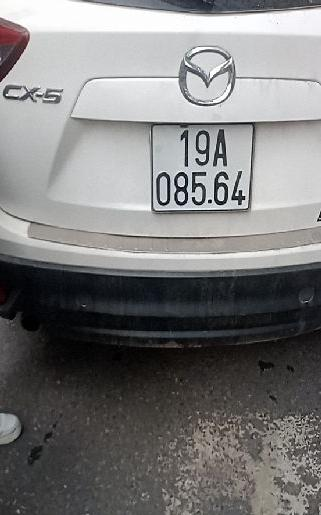Plate-iWeP: (151, 123, 257, 211)
